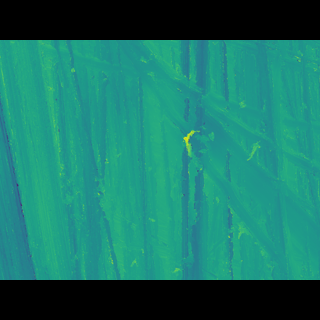Loch: (100, 70, 320, 250)
